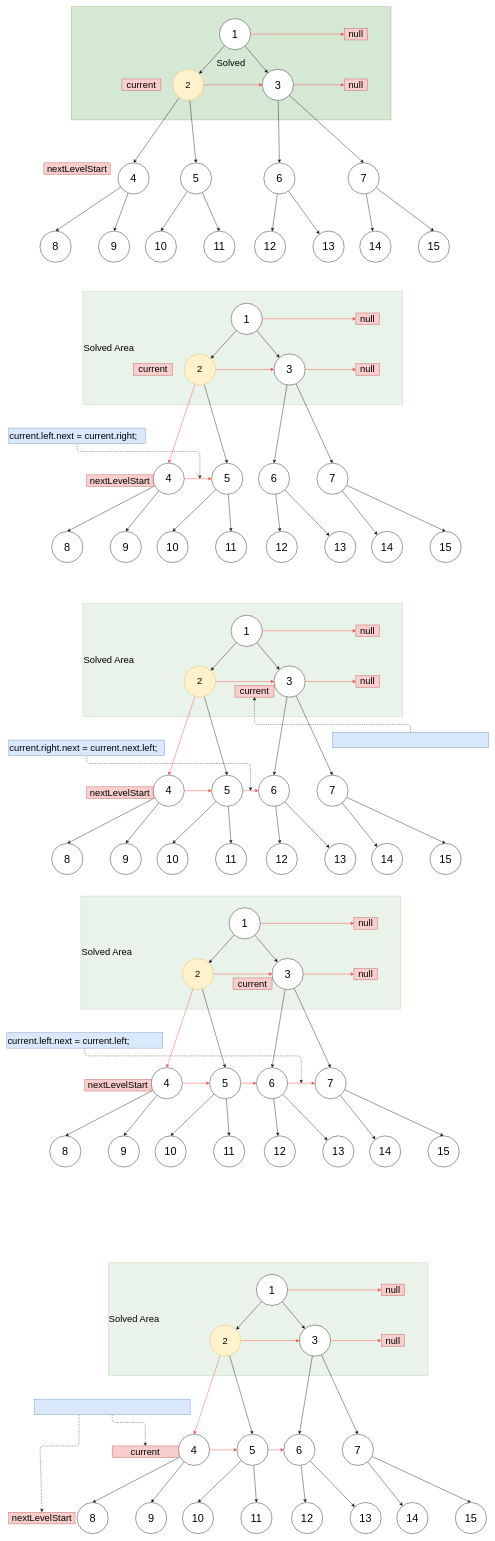
The diagram is 495 pixels wide and 1541 high, and some of its shapes have lost their labels. Here are the shapes that lost their labels. From the top down, the box of each, then its label:
(332, 732, 488, 748): current= current.next
(34, 1399, 190, 1415): current = nextLevelStart;
